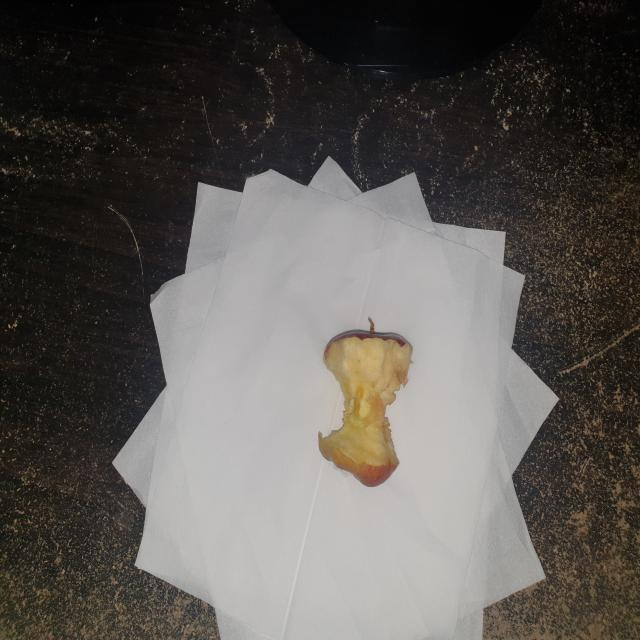apple: (316, 310, 410, 490)
